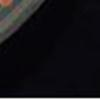orange: (0, 0, 13, 8)
